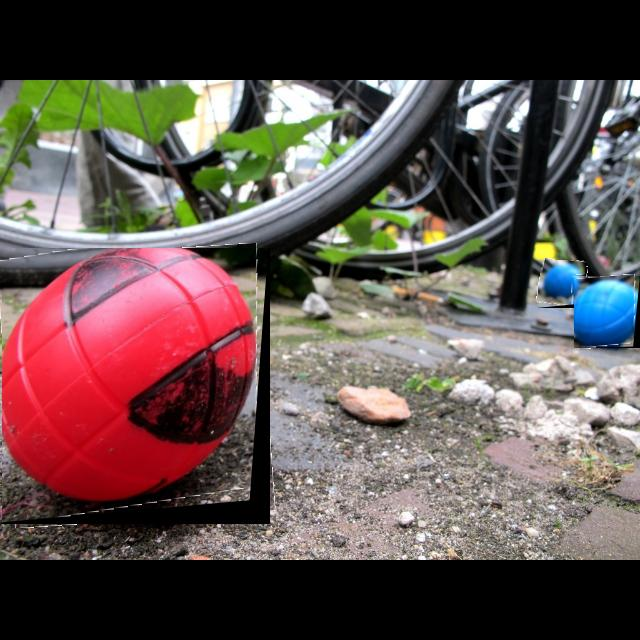Football: (2, 248, 270, 524), (574, 276, 640, 348), (538, 260, 586, 308)
